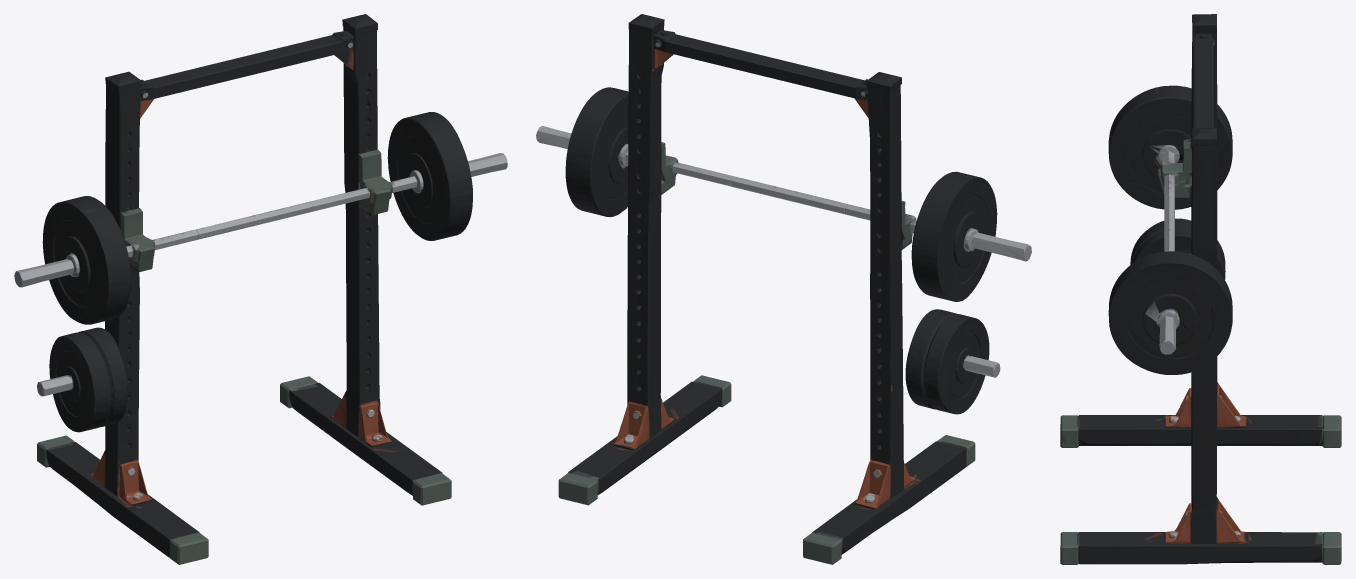
Rendered from barbell_rack.glb.
The picture shows the model from 3 angles, left to right: view 1: azimuth 30°, elevation 25°; view 2: azimuth 150°, elevation 25°; view 3: azimuth 270°, elevation 25°; orthographic projection.
Visible parts, largest first — view 1: barbell_rack; view 2: barbell_rack; view 3: barbell_rack.
Boxes of the visible parts, bbox=[...] form: barbell_rack: bbox=[14, 14, 507, 564]; barbell_rack: bbox=[536, 14, 1031, 564]; barbell_rack: bbox=[1060, 14, 1341, 564].
Size of the model in its own units: 2.12 by 1.8 by 1.08.
1 material, 1 textured.
